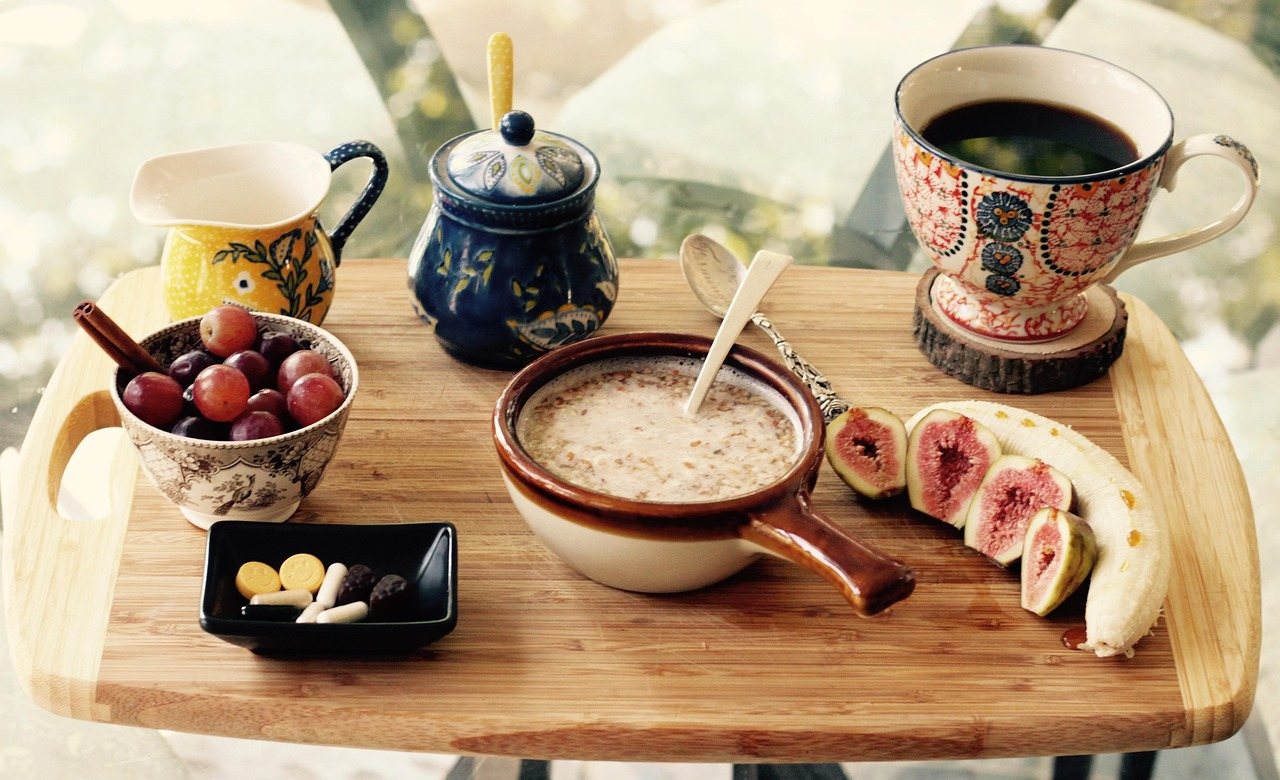mug: (459, 330, 868, 673)
